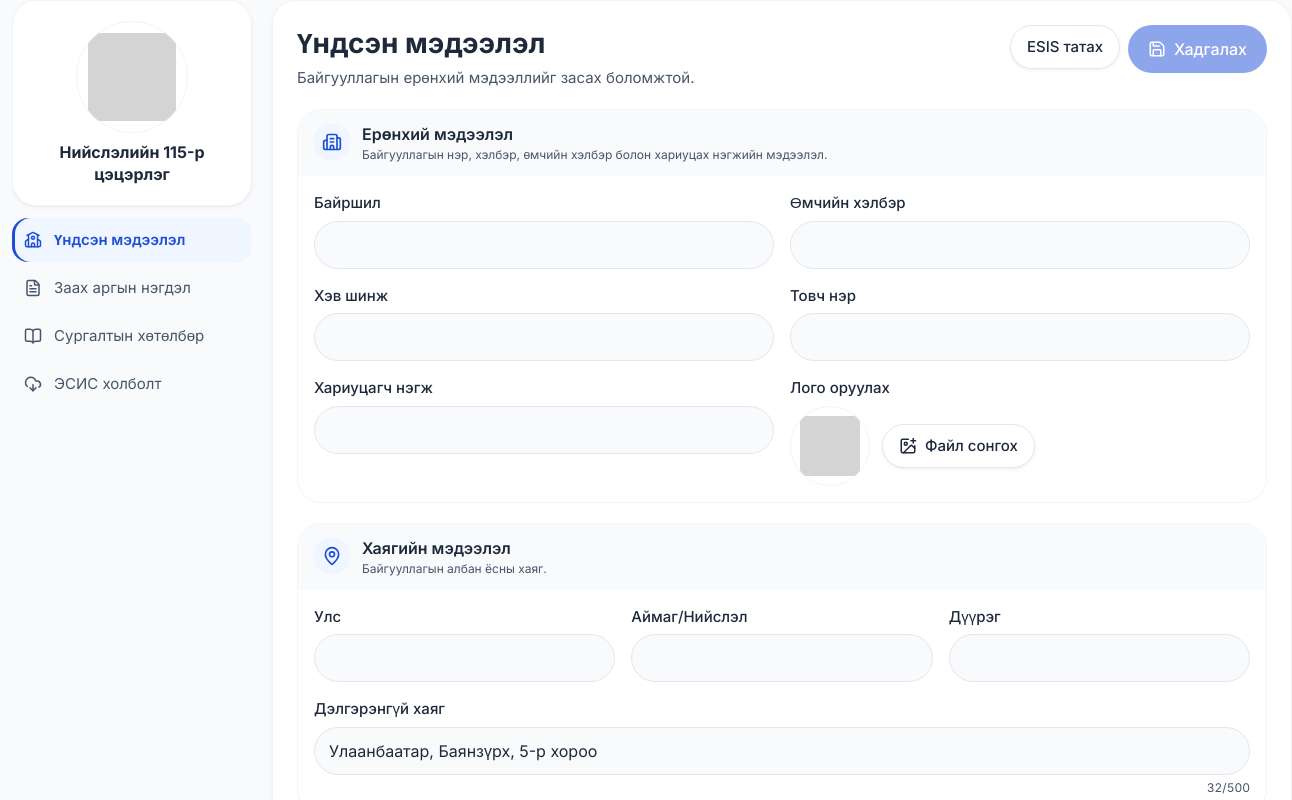
Scenario: the kindergarten's details › opens Заах аргын нэгдэл as the drawing's list
Click the button "Заах аргын нэгдэл".
click(132, 288)  # box [12,266,252,310]
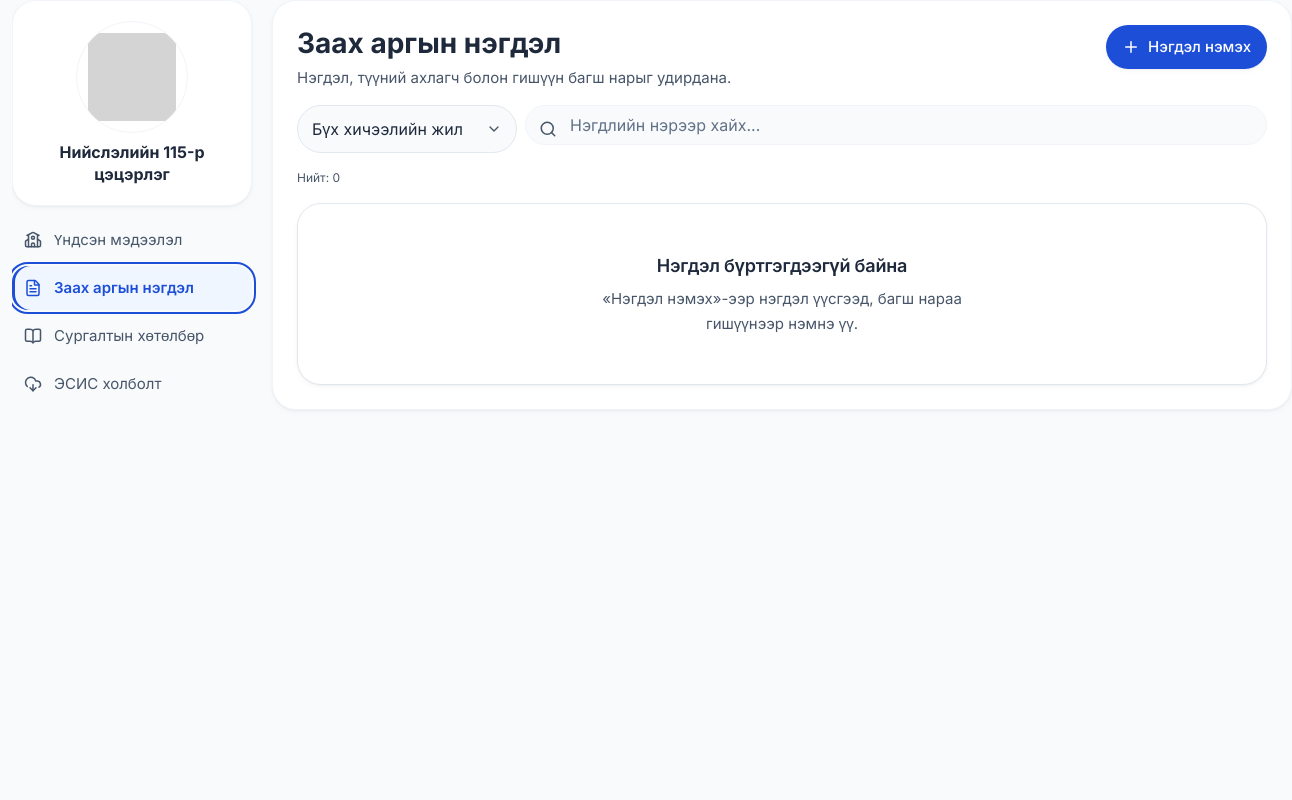
Result: the heading "Заах аргын нэгдэл" is shown at [297,26,561,60]
Result: the text "Нэгдэл бүртгэгдээгүй байна" is shown at [657,252,907,279]
Result: the text "Нийт: 0" is shown at [297,170,340,185]
